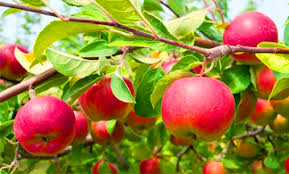apple: (163, 75, 234, 136), (16, 96, 73, 157), (220, 9, 281, 65), (82, 73, 132, 120), (252, 70, 289, 102), (1, 43, 30, 78)
